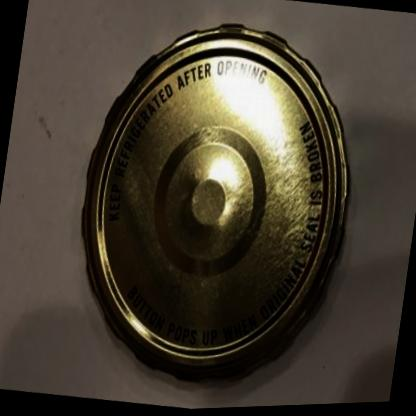Metal: (81, 25, 348, 379)
